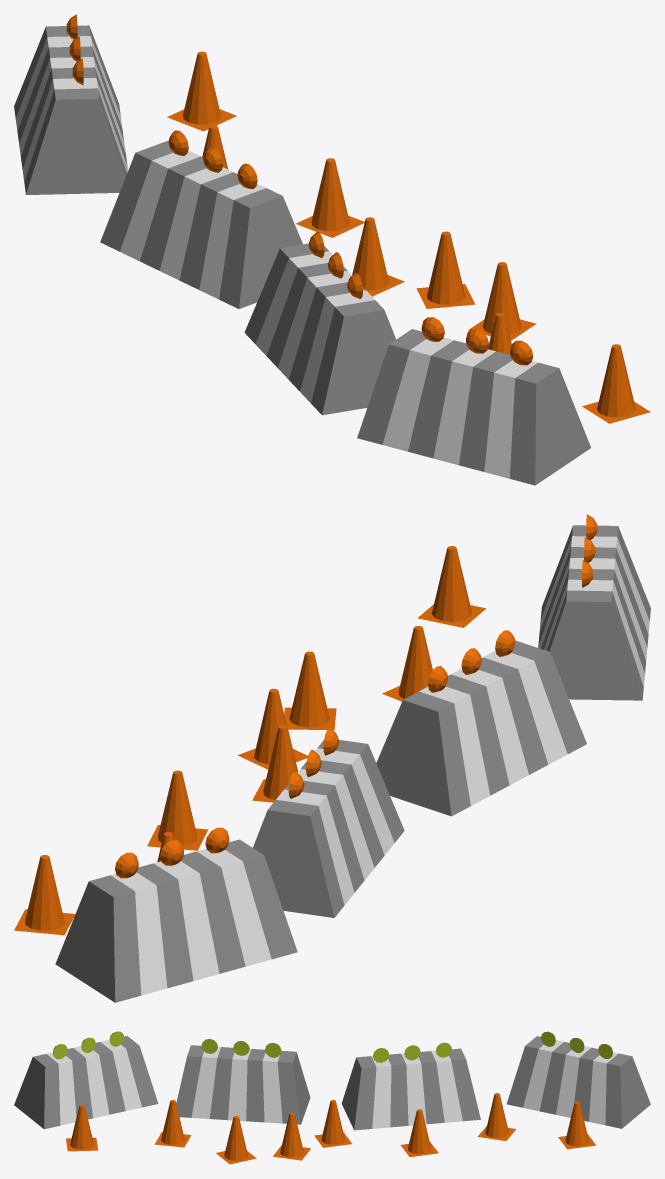
Rendered from BarreiraNormal.fbx.
3 views of the same model, one above another, from view 1: azimuth 30°, elevation 25°; view 2: azimuth 150°, elevation 25°; view 3: azimuth 270°, elevation 25° (orthographic). The views are drawn at different scales.
Visible parts, largest first — view 1: BarreiraNormal; view 2: BarreiraNormal; view 3: BarreiraNormal.
Boxes of the visible parts, x1,y1,x2,y2 form: BarreiraNormal: [14, 14, 650, 485]; BarreiraNormal: [14, 514, 650, 1002]; BarreiraNormal: [14, 1031, 650, 1164].
Bounding box in the file's own units: 1193 × 348 × 156.
